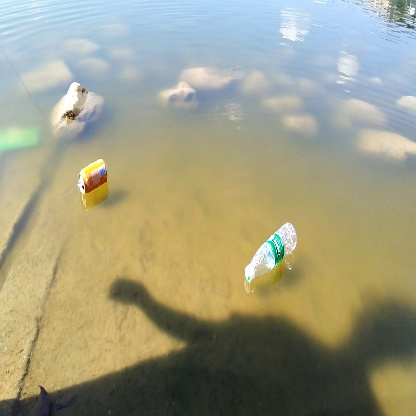bottle: (238, 218, 301, 289), (75, 156, 112, 202)
